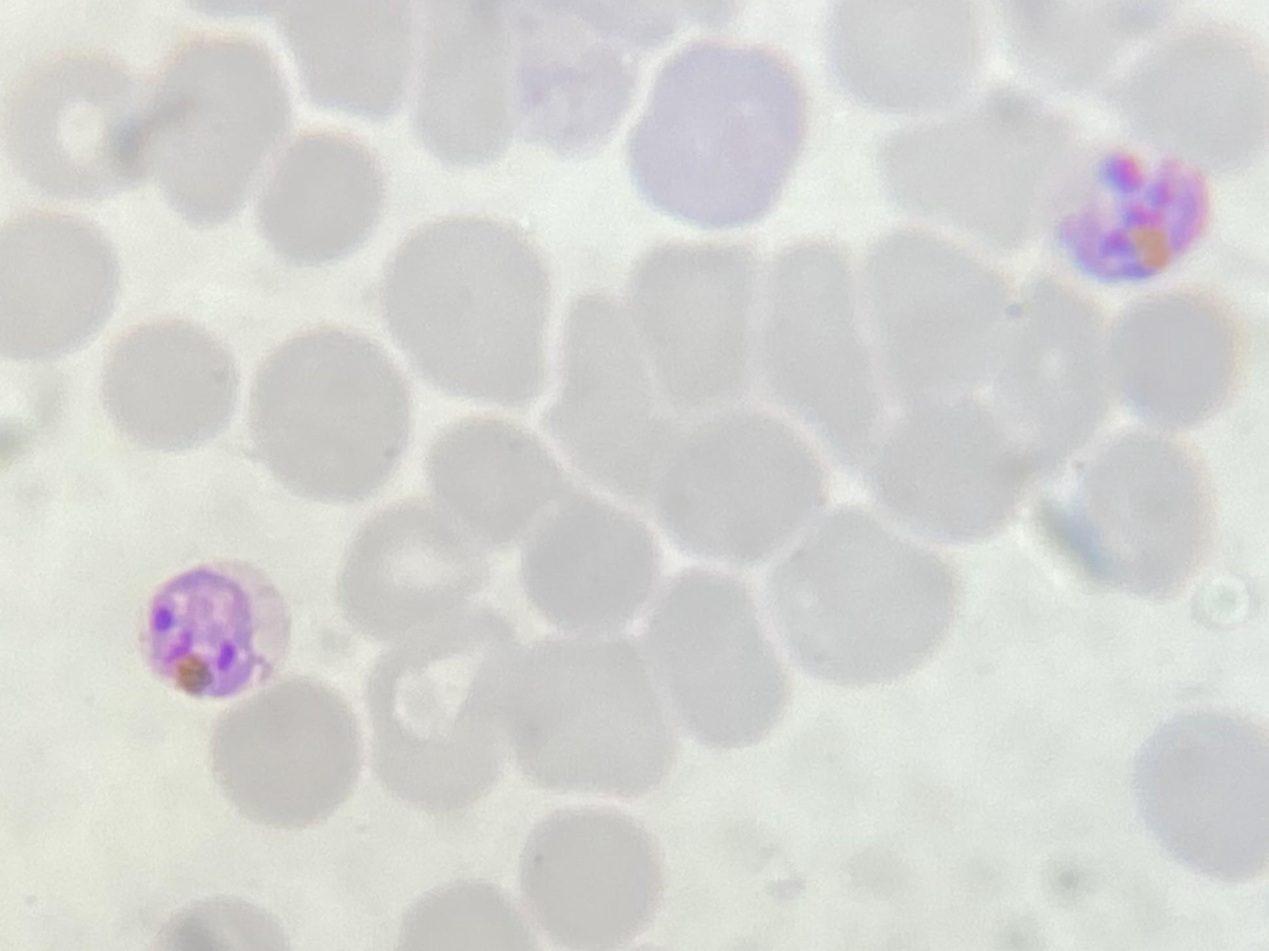Infected: (50, 664, 215, 827), (971, 247, 1127, 392)
Uninfected: (453, 716, 645, 905), (712, 529, 888, 733), (749, 127, 901, 346), (971, 725, 1134, 918), (50, 339, 226, 517), (181, 703, 392, 851), (592, 422, 728, 651), (316, 260, 490, 437), (591, 158, 762, 325), (268, 529, 405, 723), (476, 197, 619, 376), (402, 489, 516, 712), (862, 450, 1015, 614), (236, 398, 408, 541), (434, 367, 600, 513), (155, 483, 280, 673), (509, 537, 644, 708), (0, 71, 132, 245), (779, 306, 936, 449), (906, 114, 1050, 264), (1128, 751, 1269, 896), (605, 313, 747, 453), (24, 516, 161, 660), (1024, 503, 1171, 637), (271, 830, 433, 951), (605, 7, 746, 146), (1146, 590, 1269, 749), (698, 389, 837, 526), (880, 677, 1005, 811)
